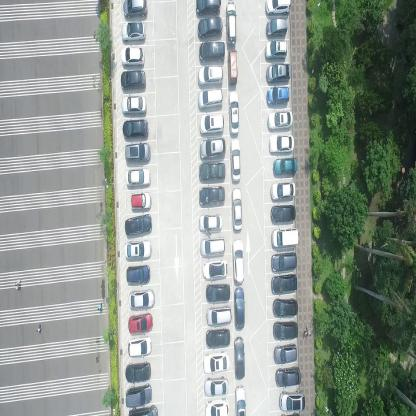car: (126, 384, 153, 408), (272, 225, 299, 248), (275, 364, 302, 387), (203, 350, 230, 373), (125, 214, 153, 236), (124, 143, 150, 166), (197, 88, 223, 111), (200, 137, 226, 160), (279, 389, 305, 412), (197, 66, 224, 88), (125, 239, 152, 261), (233, 238, 245, 286), (200, 236, 225, 259), (202, 258, 228, 280), (206, 305, 232, 327), (271, 250, 298, 271), (232, 186, 244, 232), (198, 16, 223, 38), (272, 272, 297, 294), (206, 327, 231, 349), (128, 312, 153, 334), (121, 96, 147, 117), (124, 168, 150, 189), (200, 186, 226, 207), (120, 22, 146, 43), (126, 361, 152, 382), (121, 120, 148, 140), (129, 288, 156, 308), (199, 162, 227, 181), (206, 282, 230, 304), (128, 336, 152, 358), (274, 342, 298, 364), (266, 62, 290, 84), (271, 179, 296, 200), (200, 113, 225, 134), (120, 70, 146, 90), (272, 296, 298, 316), (269, 133, 296, 152), (268, 110, 295, 129), (228, 88, 239, 134), (199, 212, 223, 233), (204, 375, 228, 396), (120, 46, 145, 66), (271, 202, 296, 222), (126, 264, 151, 284), (231, 138, 242, 183), (122, 0, 148, 19), (199, 42, 225, 61), (274, 318, 299, 337), (204, 398, 230, 416), (264, 39, 287, 59), (273, 156, 298, 174), (235, 286, 245, 331), (235, 334, 245, 379), (130, 190, 151, 211), (266, 17, 288, 36), (266, 86, 288, 105), (226, 0, 235, 46), (195, 0, 220, 16), (264, 0, 290, 15), (235, 384, 247, 416), (228, 48, 237, 86), (128, 404, 158, 415)
